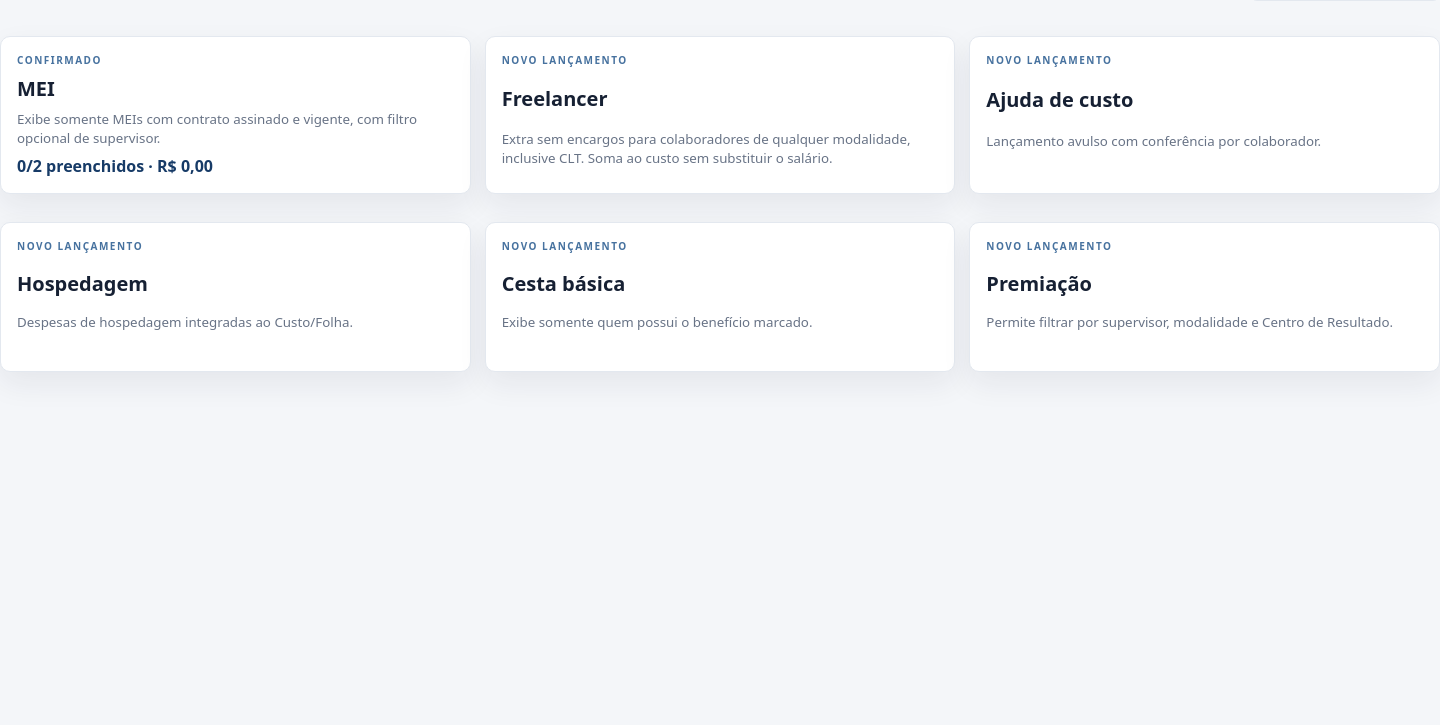
Test case: edição de lançamentos › permite corrigir MEI confirmado
What coordinates should you click on to do the following:
click the button with class "launch-kind-card" that starts with "Confirmado"
I would click on:
 (235, 115)
Its box is [0,36,471,194].
(page scrolled)
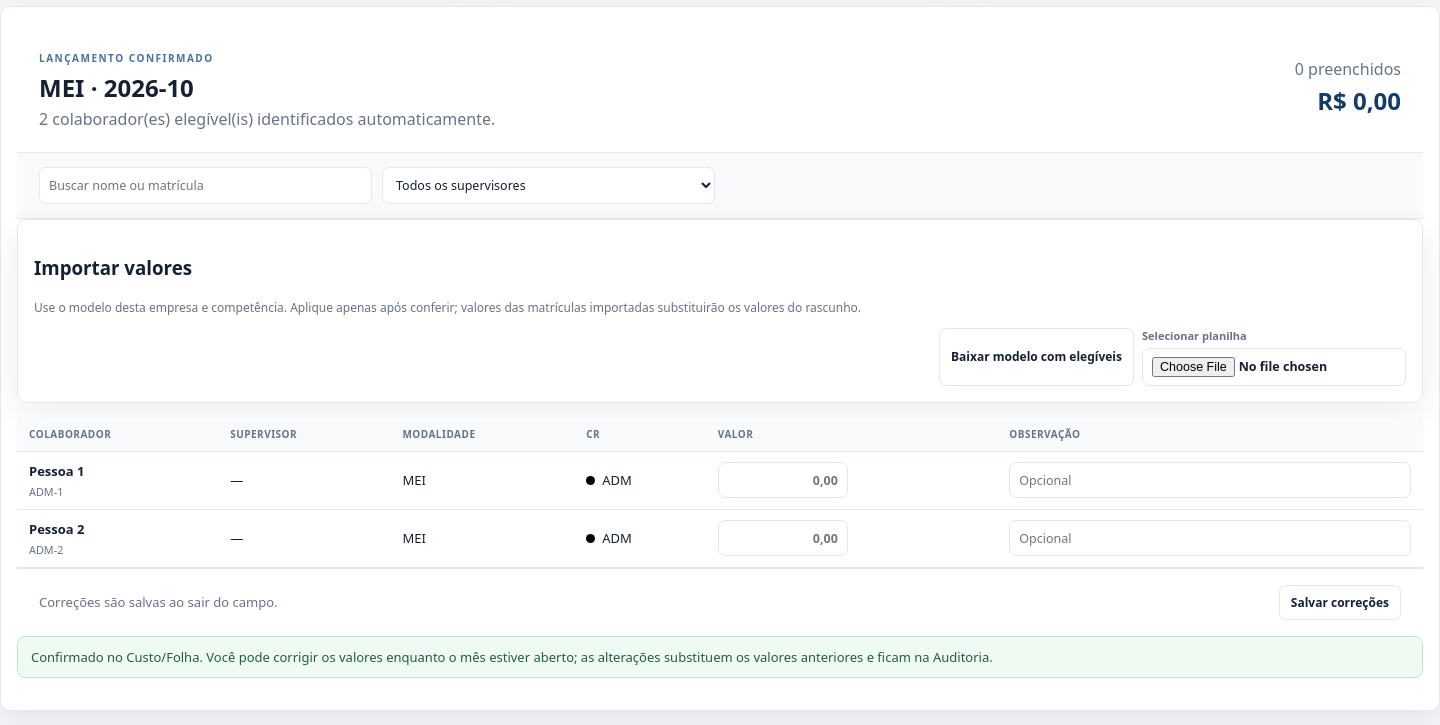
Check: the field named "Valor de Pessoa 1" is enabled, box [718,462,848,498]
Check: the text "Salvar correções" is shown, box [1279,585,1401,620]
